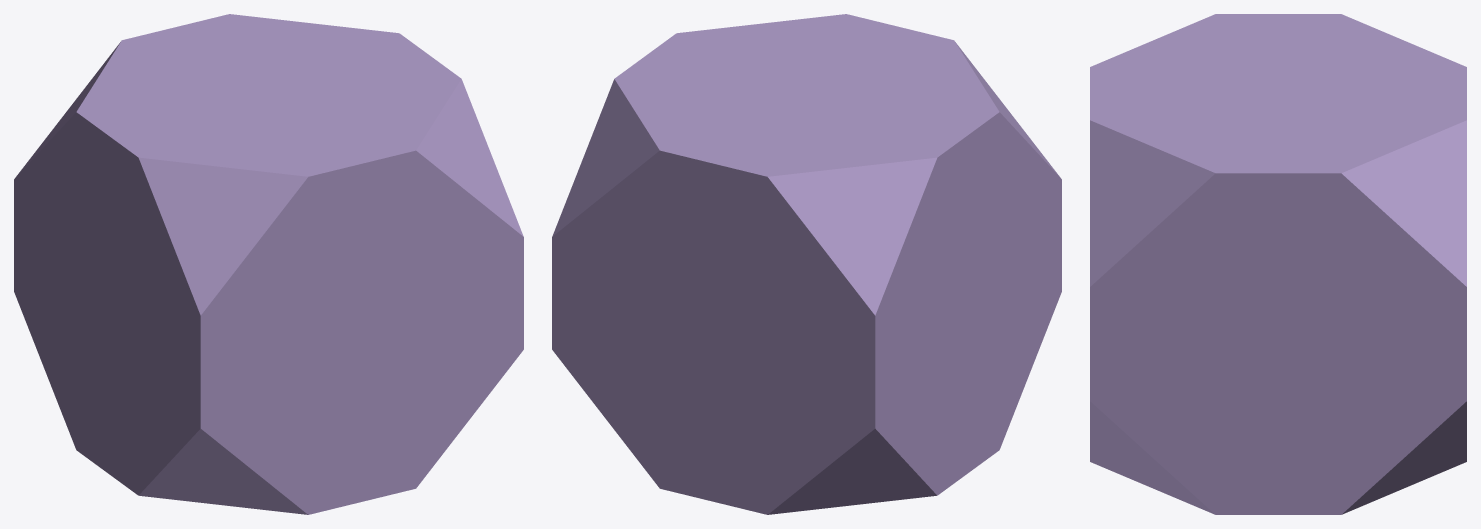
File: 9.HexaedroTruncado.gltf
3 views of the same model, side by side, from view 1: azimuth 30°, elevation 25°; view 2: azimuth 150°, elevation 25°; view 3: azimuth 270°, elevation 25° (orthographic).
Visible parts, largest first — view 1: Solid; view 2: Solid; view 3: Solid.
Part boxes in pixels (x1,y1,x2,y2): Solid: (14, 14, 523, 514); Solid: (552, 14, 1061, 514); Solid: (1090, 14, 1466, 514).
Size of the model in its own units: 1.15 by 1.15 by 1.15.
